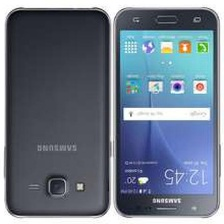phone: (110, 3, 223, 223), (0, 4, 113, 222)
